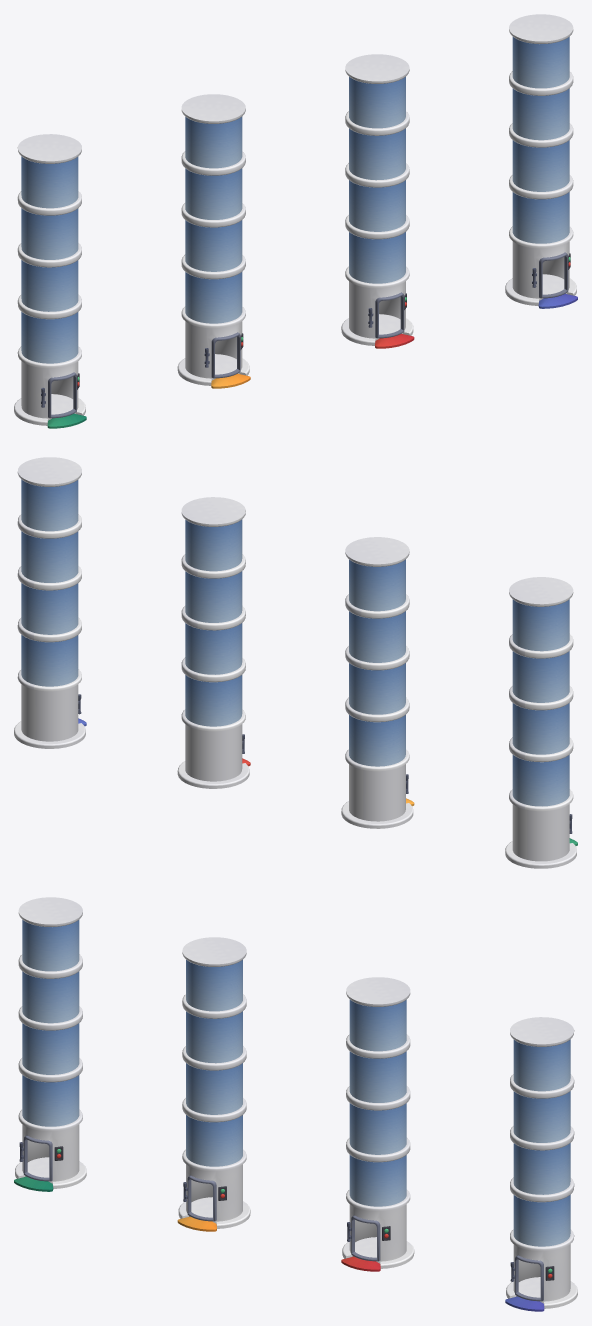
Rendered from Elevators.fbx.
The picture shows the model from 3 angles, top to bottom: view 1: azimuth 30°, elevation 25°; view 2: azimuth 150°, elevation 25°; view 3: azimuth 330°, elevation 25°; orthographic projection.
Parts seen in each view (by area): view 1: Elevator; view 2: Elevator; view 3: Elevator.
Part boxes in pixels (x1,y1,x2,y2): Elevator: (14, 14, 577, 428); Elevator: (14, 457, 577, 868); Elevator: (14, 897, 577, 1311).
Bounding box in the file's own units: 3982 × 1808 × 492.
Materials: 1 (1 with a texture image).
